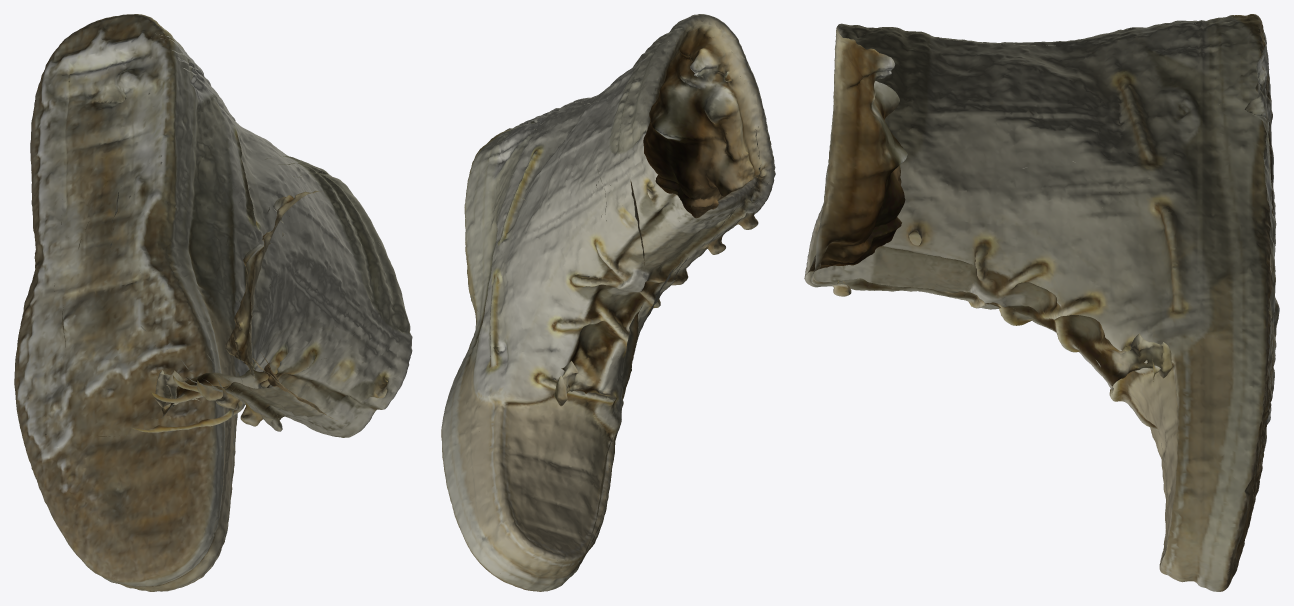
Rendered from shoe1.glb.
3 renders of one model, left to right at view 1: azimuth 30°, elevation 25°; view 2: azimuth 150°, elevation 25°; view 3: azimuth 270°, elevation 25°, orthographic. The views are drawn at different scales.
Bounding box in the file's own units: 0.3653 × 1 × 0.7844.
